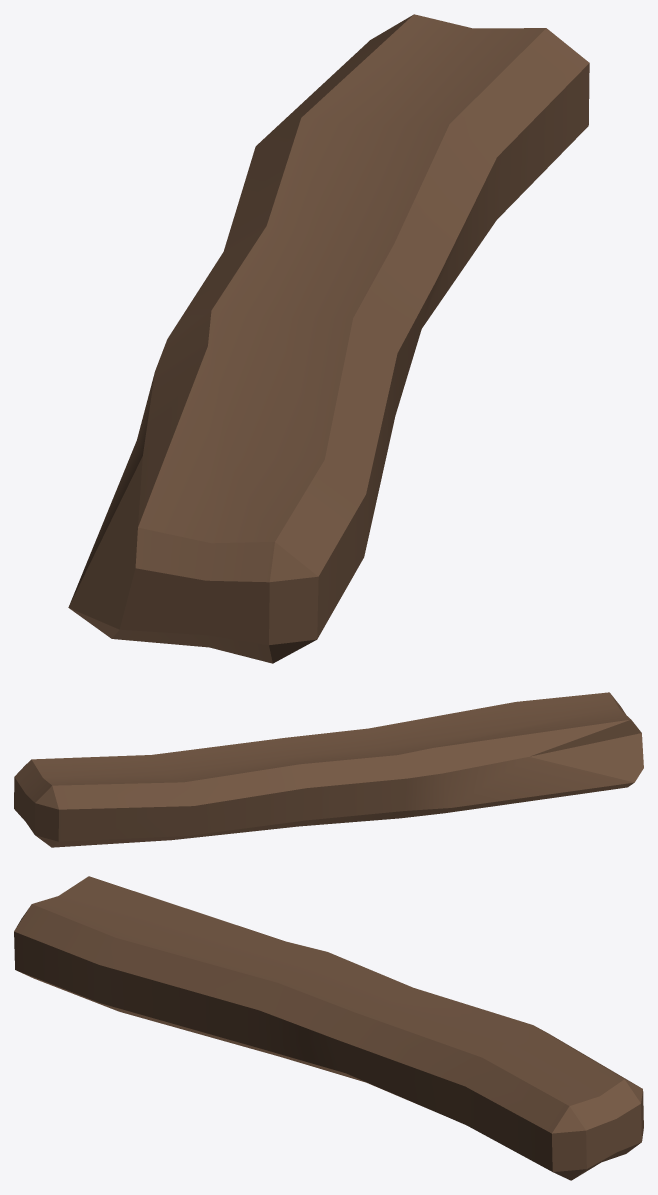
The model's file is invwood1.fbx.
3 renders of one model, top to bottom at view 1: azimuth 30°, elevation 25°; view 2: azimuth 150°, elevation 25°; view 3: azimuth 270°, elevation 25°, orthographic. The views are drawn at different scales.
Parts seen in each view (by area): view 1: pCube34; view 2: pCube34; view 3: pCube34.
Part boxes in pixels (left/top/right/bottom): pCube34: left=68, top=14, right=589, bottom=663; pCube34: left=14, top=692, right=643, bottom=847; pCube34: left=14, top=876, right=643, bottom=1180.
Size of the model in its own units: 0.4203 by 0.0648 by 0.4334.
